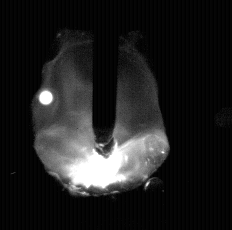arame: (92, 0, 118, 158)
poca: (34, 0, 165, 230)
